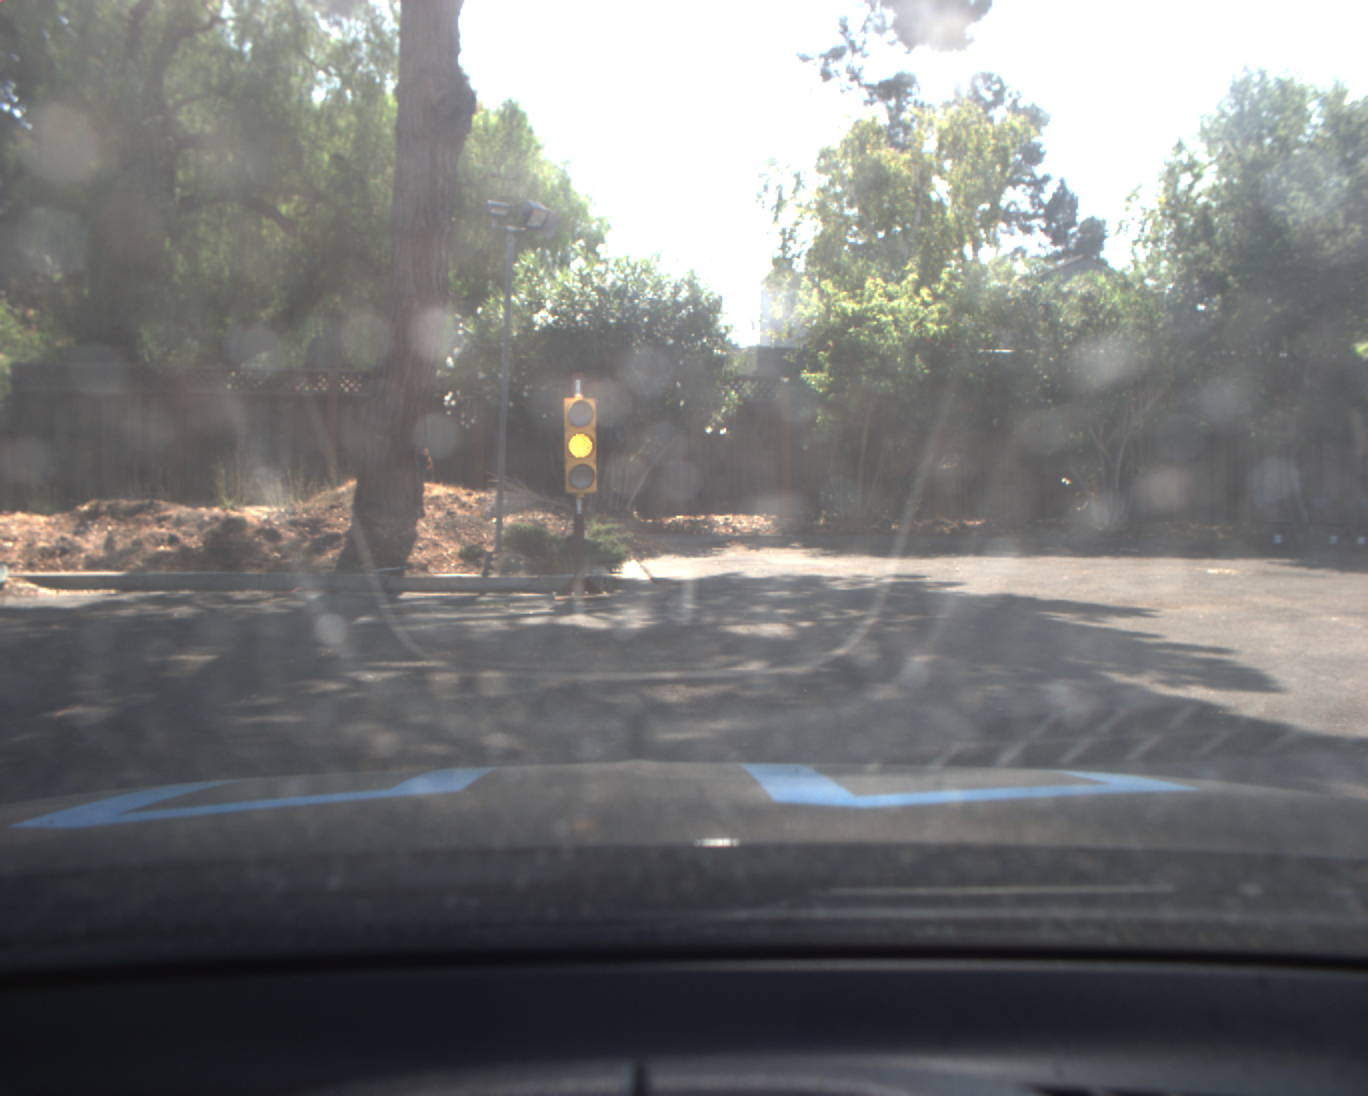yellow: (562, 395, 600, 497)
